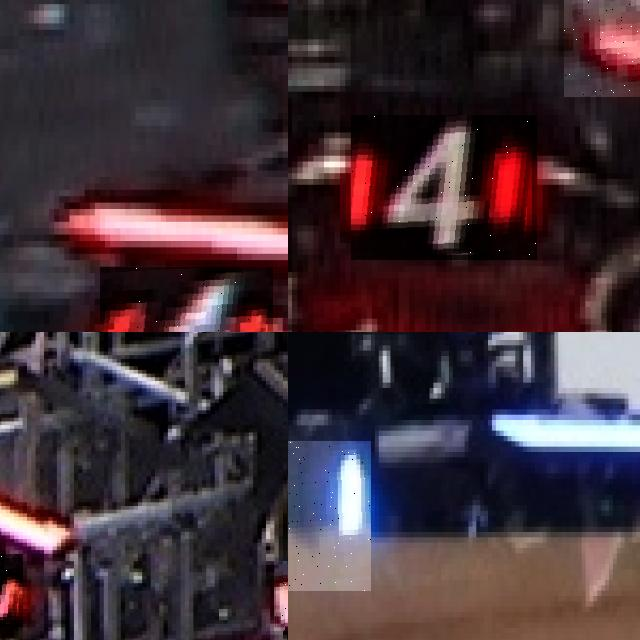B3: (288, 441, 370, 590)
R2: (0, 553, 23, 627)
R4: (351, 115, 537, 260), (100, 266, 272, 332), (564, 0, 640, 97)
